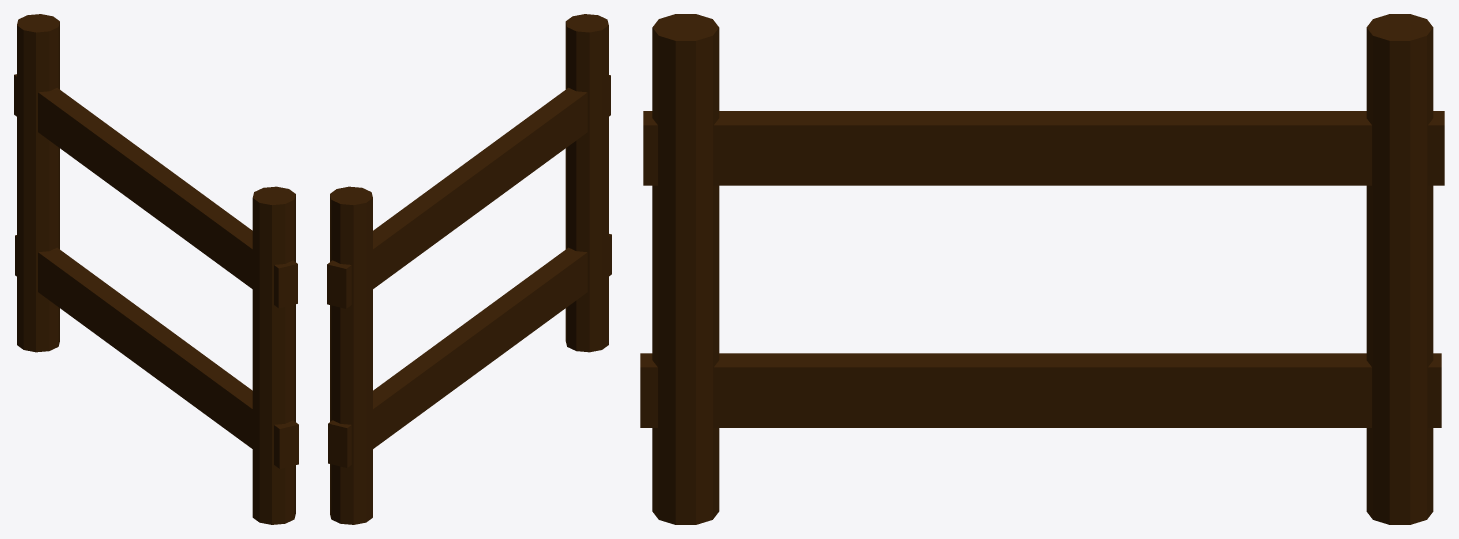
Rendered from Fence_Doube_Post_v004(UV_Unwrapped).fbx.
3 renders of one model, left to right at view 1: azimuth 30°, elevation 25°; view 2: azimuth 150°, elevation 25°; view 3: azimuth 270°, elevation 25°, orthographic. The views are drawn at different scales.
Parts seen in each view (by area): view 1: Fence; view 2: Fence; view 3: Fence.
Boxes of the visible parts, bbox=[...] form: Fence: bbox=[14, 14, 298, 524]; Fence: bbox=[327, 14, 611, 524]; Fence: bbox=[640, 14, 1444, 524].
Size of the model in its own units: 47.55 by 400 by 602.
